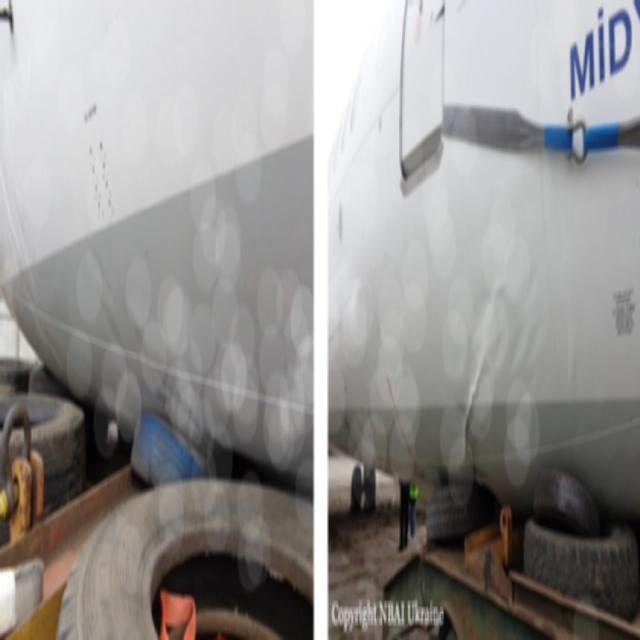dent: (87, 243, 204, 445), (450, 270, 524, 486)
